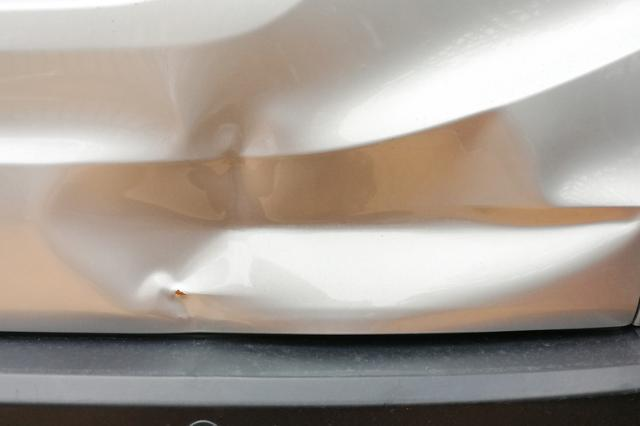Dickey: (38, 81, 636, 334)
